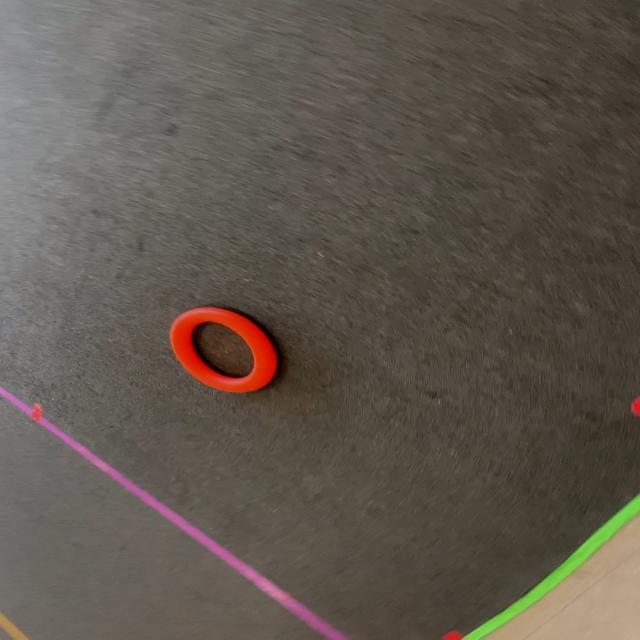notes: (164, 308, 283, 395)
